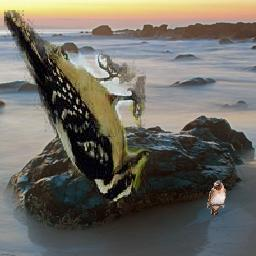Swallow: (208, 181, 227, 216)
Woodpecker: (5, 10, 150, 212)
